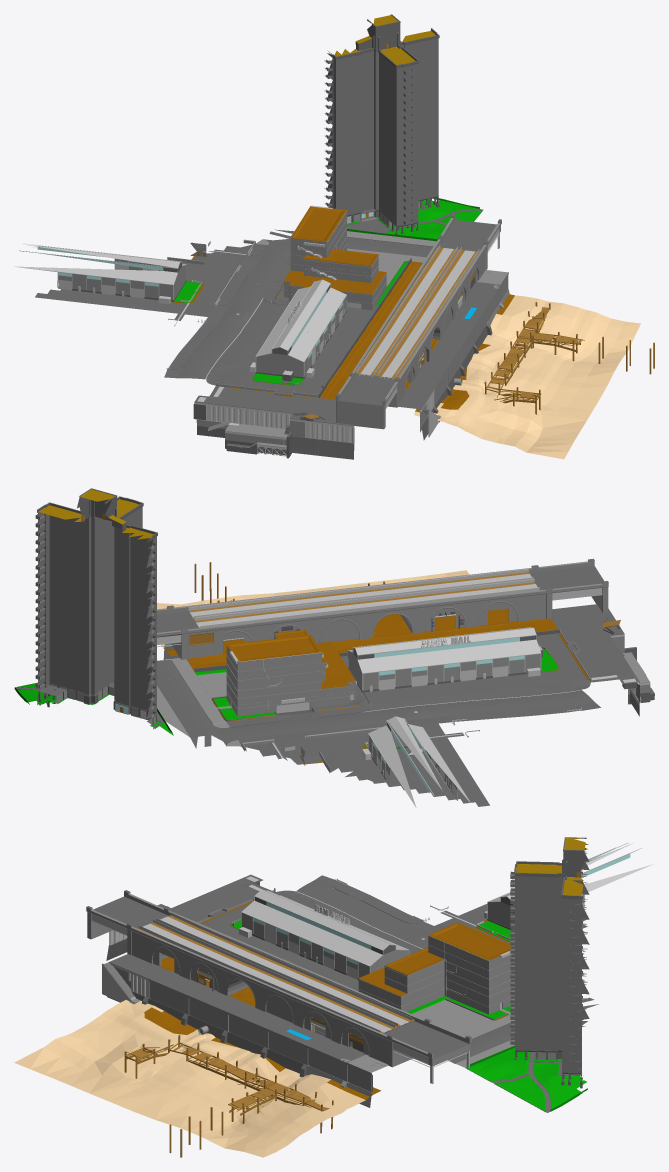
The model's file is bronx_e_3.FBX.
3 views of the same model, one above another, from view 1: azimuth 30°, elevation 25°; view 2: azimuth 150°, elevation 25°; view 3: azimuth 270°, elevation 25° (orthographic). The views are drawn at different scales.
Visible parts, largest first — view 1: unnamed, null; view 2: unnamed, null; view 3: unnamed, null.
Part boxes in pixels (<box>): unnamed: <box>14,14,654,459</box>; null: <box>220,38,486,347</box>; unnamed: <box>14,488,654,807</box>; null: <box>116,518,511,756</box>; unnamed: <box>14,837,653,1157</box>; null: <box>258,844,598,1065</box>.
Bounding box in the file's own units: 244 × 120 × 263.
